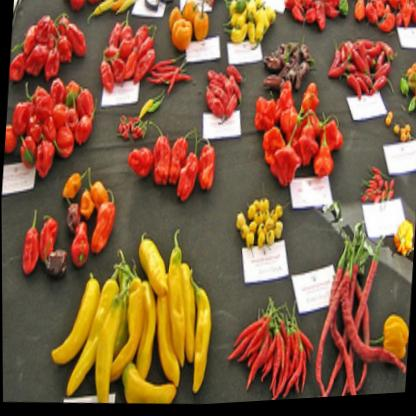--: (45, 215, 217, 414), (313, 231, 403, 401), (222, 291, 318, 404)
